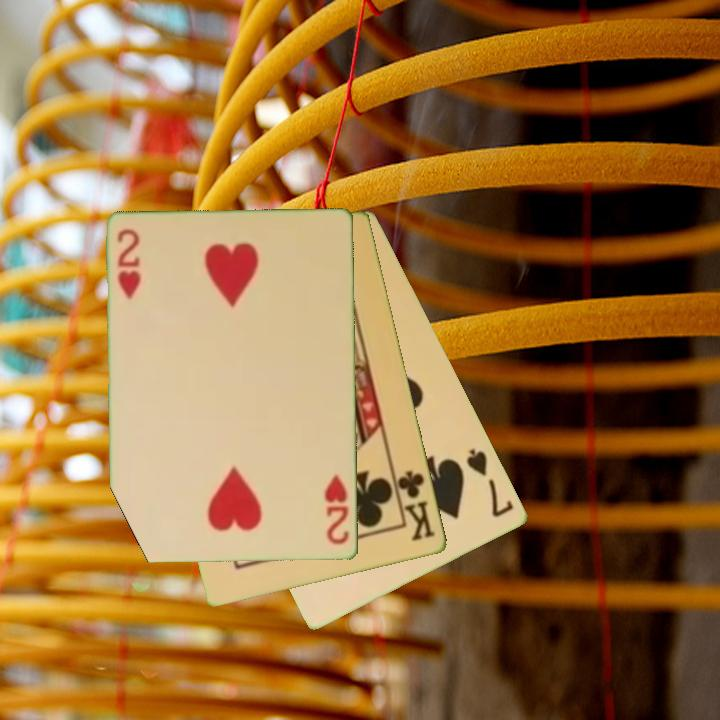2h: (114, 226, 145, 303), (322, 472, 352, 548)
7s: (463, 445, 517, 521)
Kc: (391, 467, 439, 545)
